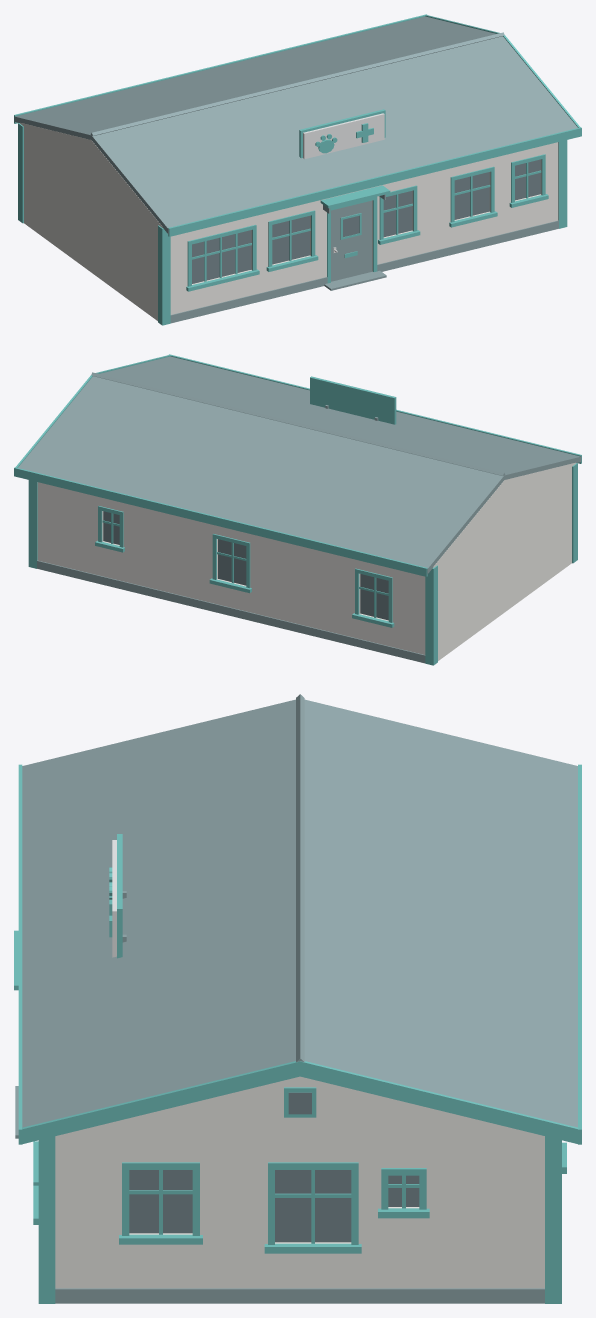
File: clinic.glb
3 renders of one model, top to bottom at view 1: azimuth 30°, elevation 25°; view 2: azimuth 150°, elevation 25°; view 3: azimuth 270°, elevation 25°, orthographic. The views are drawn at different scales.
Visible parts, largest first — view 1: roof_slate, front_wall, sideR_wall, front_trim, front_dark, roof_trim, front_slate, roof_wall, door_slate, roof_pale, back_trim; view 2: roof_slate, back_wall, sideR_wall, roof_trim, back_trim, back_slate, roof_wall, back_dark, front_trim; view 3: roof_slate, sideL_wall, roof_trim, roof_wall, sideL_dark, sideL_trim, sideL_slate, front_trim, back_trim.
Boxes of the visible parts, left/top/right/bottom form: roof_slate: left=14, top=16, right=577, bottom=234; front_wall: left=170, top=142, right=558, bottom=314; sideR_wall: left=24, top=127, right=158, bottom=320; front_trim: left=158, top=140, right=567, bottom=325; front_dark: left=192, top=159, right=540, bottom=283; roof_trim: left=14, top=14, right=581, bottom=236; front_slate: left=170, top=194, right=558, bottom=323; roof_wall: left=20, top=122, right=162, bottom=227; door_slate: left=331, top=200, right=372, bottom=281; roof_pale: left=303, top=113, right=384, bottom=159; back_trim: left=18, top=123, right=23, bottom=223; roof_slate: left=18, top=356, right=581, bottom=574; back_wall: left=37, top=482, right=425, bottom=654; sideR_wall: left=437, top=467, right=571, bottom=660; roof_trim: left=14, top=354, right=581, bottom=576; back_trim: left=28, top=480, right=437, bottom=665; back_slate: left=37, top=560, right=425, bottom=663; roof_wall: left=433, top=462, right=575, bottom=567; back_dark: left=103, top=511, right=388, bottom=620; front_trim: left=572, top=463, right=577, bottom=563; roof_slate: left=22, top=694, right=577, bottom=1127; sideL_wall: left=55, top=1128, right=544, bottom=1288; roof_trim: left=18, top=764, right=581, bottom=1144; roof_wall: left=90, top=1076, right=510, bottom=1127; sideL_dark: left=129, top=1170, right=419, bottom=1242; sideL_trim: left=119, top=1162, right=429, bottom=1253; sideL_slate: left=55, top=1288, right=544, bottom=1303; front_trim: left=14, top=930, right=55, bottom=1303; back_trim: left=545, top=1136, right=566, bottom=1303.
Bounding box in the file's own units: 13.38 × 4.32 × 8.77.
